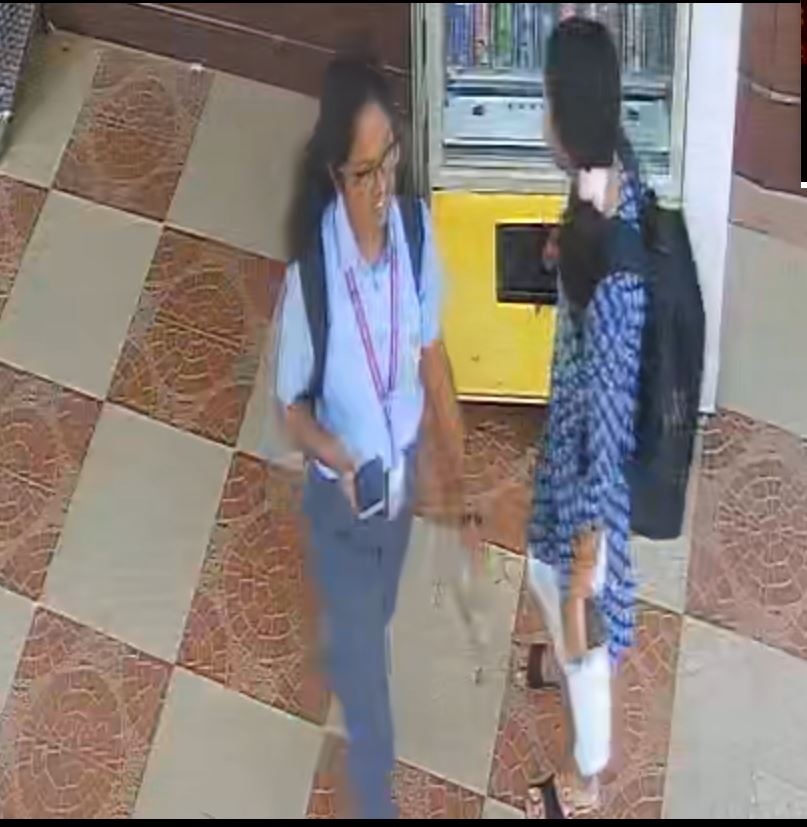intruder: (274, 47, 475, 826)
